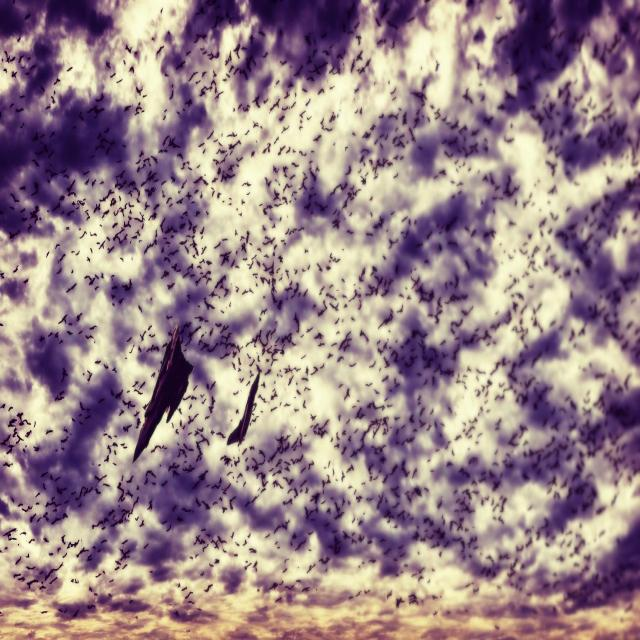airplane: (131, 323, 194, 464), (227, 372, 260, 448)
